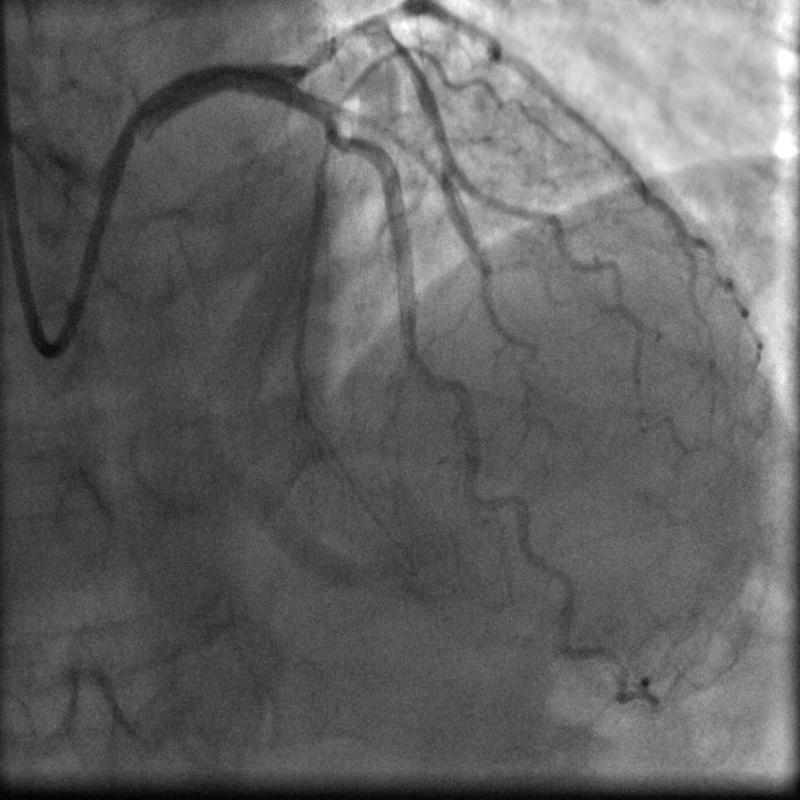Stenosis: (283, 27, 352, 69)
